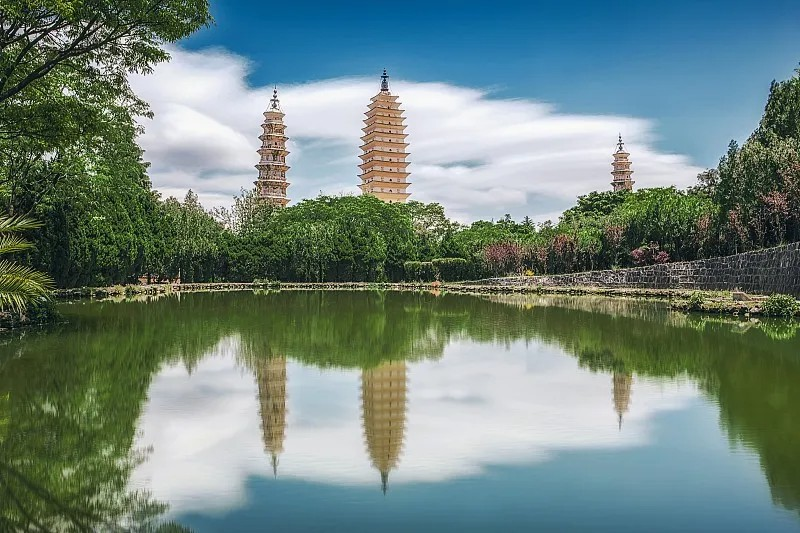ThreePagoda: (357, 68, 412, 204)
